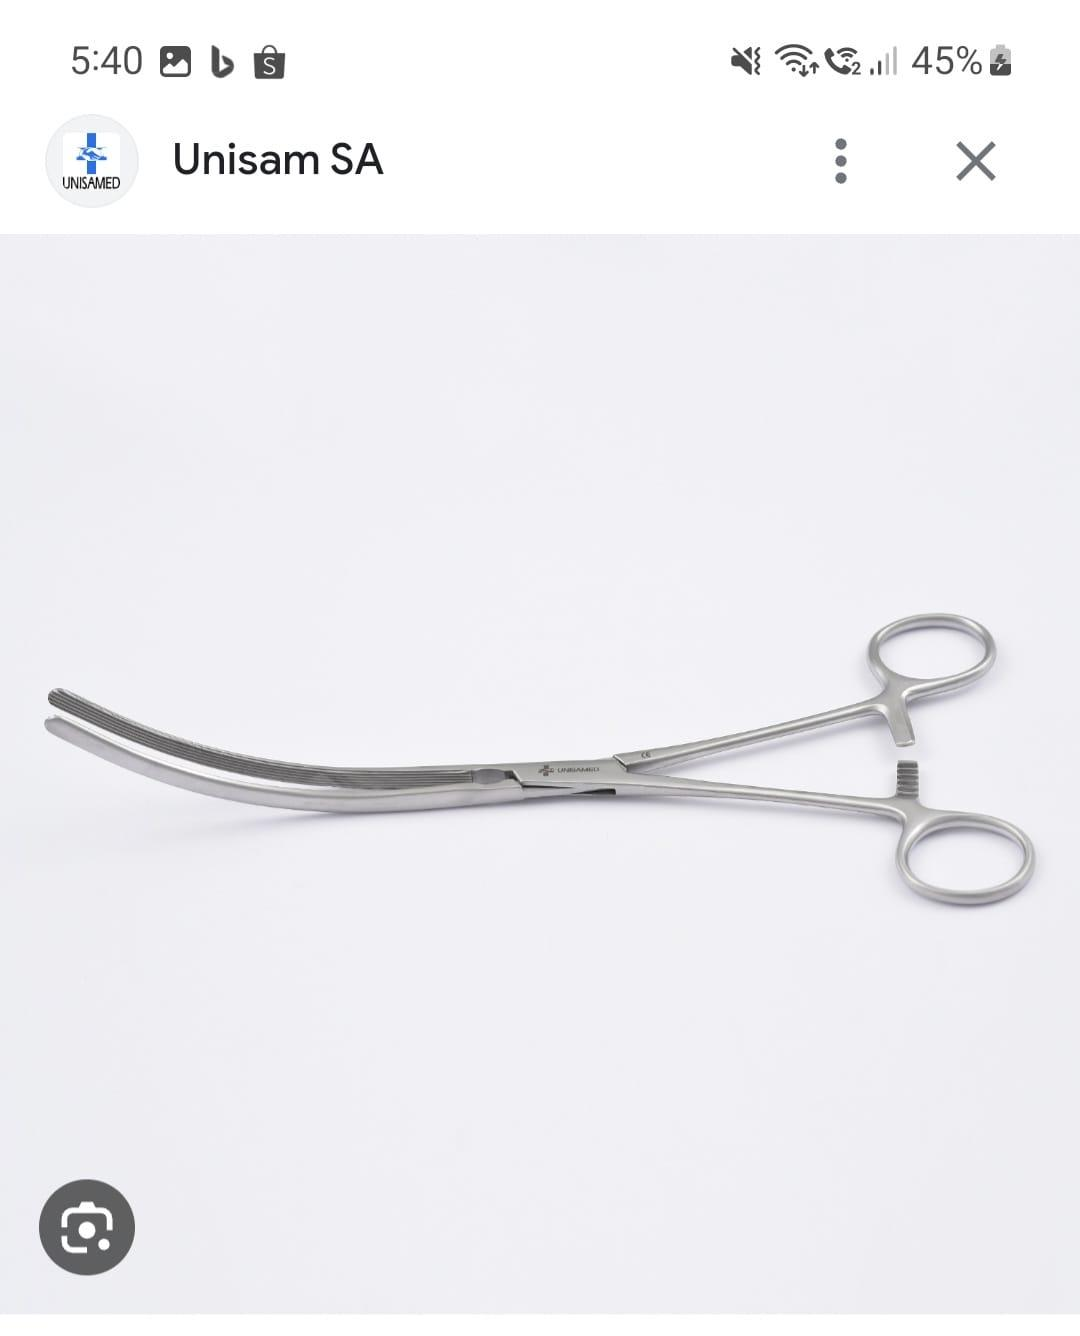Doyel Instestinal Forceps: (32, 584, 1046, 924)
